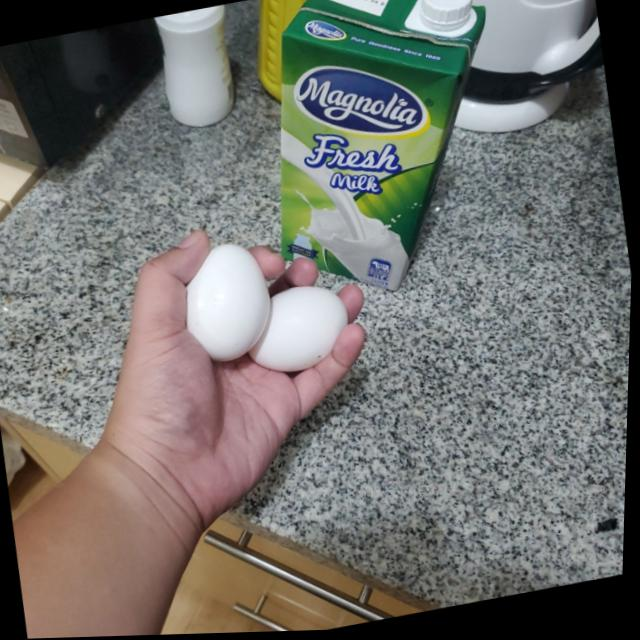egg: (175, 237, 279, 369), (245, 282, 354, 378)
milk: (241, 0, 529, 306)
